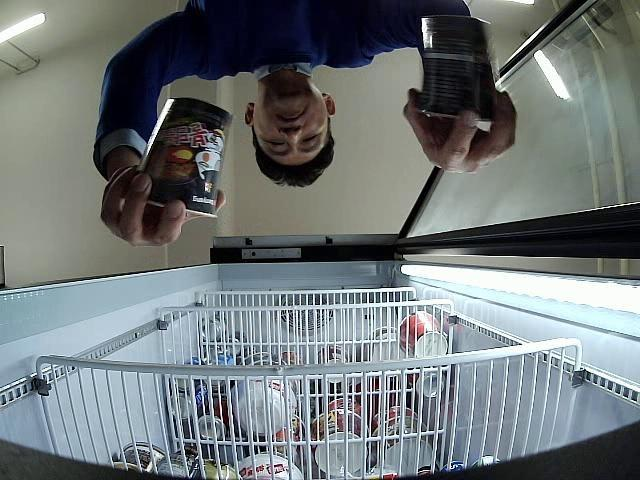08_buldak_S: (138, 98, 234, 218), (419, 15, 497, 119)
